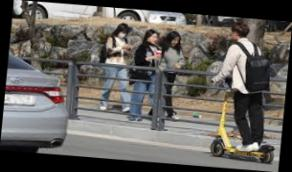nonhelmet: (206, 21, 288, 165)
